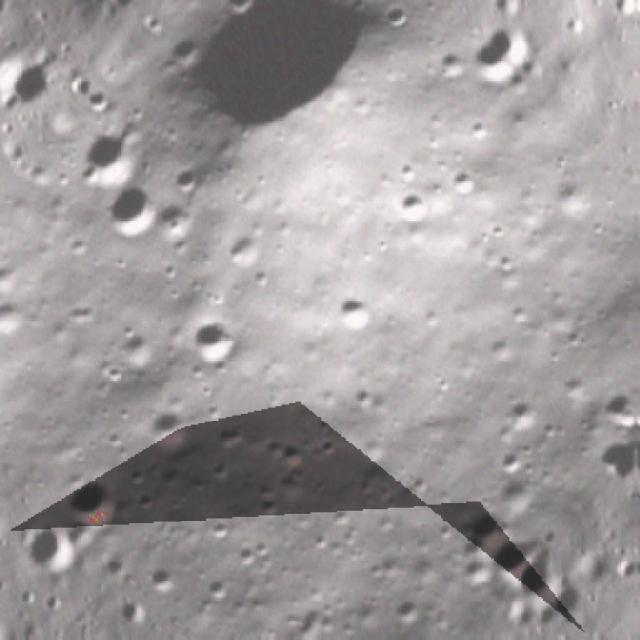crater: (144, 0, 410, 186), (55, 457, 152, 554), (71, 122, 154, 205), (477, 514, 549, 588), (101, 178, 173, 251), (180, 304, 252, 376), (138, 397, 204, 463), (331, 282, 397, 348), (457, 496, 520, 558), (220, 224, 277, 281), (497, 387, 551, 441), (442, 158, 496, 210), (120, 322, 171, 373), (597, 381, 640, 441), (163, 24, 212, 76), (392, 183, 441, 232), (0, 290, 37, 348), (436, 46, 482, 91), (169, 158, 214, 202), (145, 559, 189, 604), (203, 564, 246, 607), (390, 153, 430, 193), (381, 0, 421, 38), (216, 0, 267, 20), (0, 219, 9, 279)
